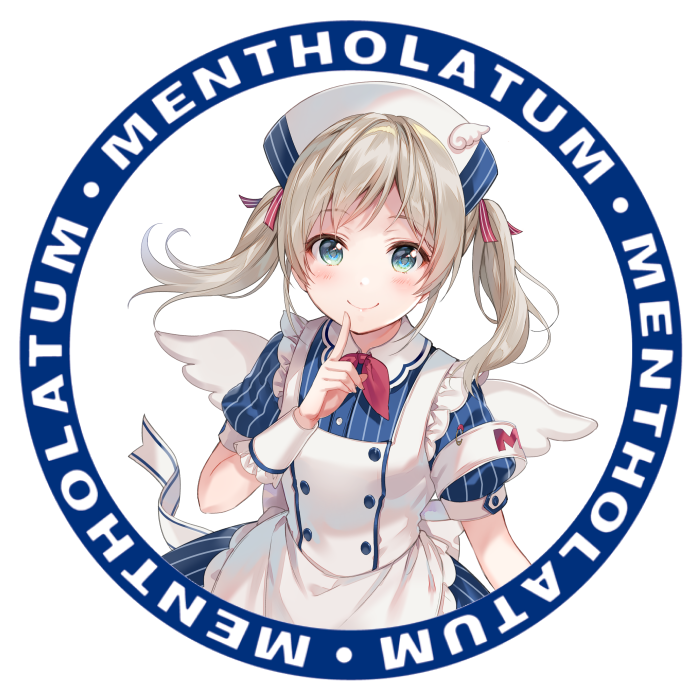纸片人正脸: (258, 92, 498, 345)
